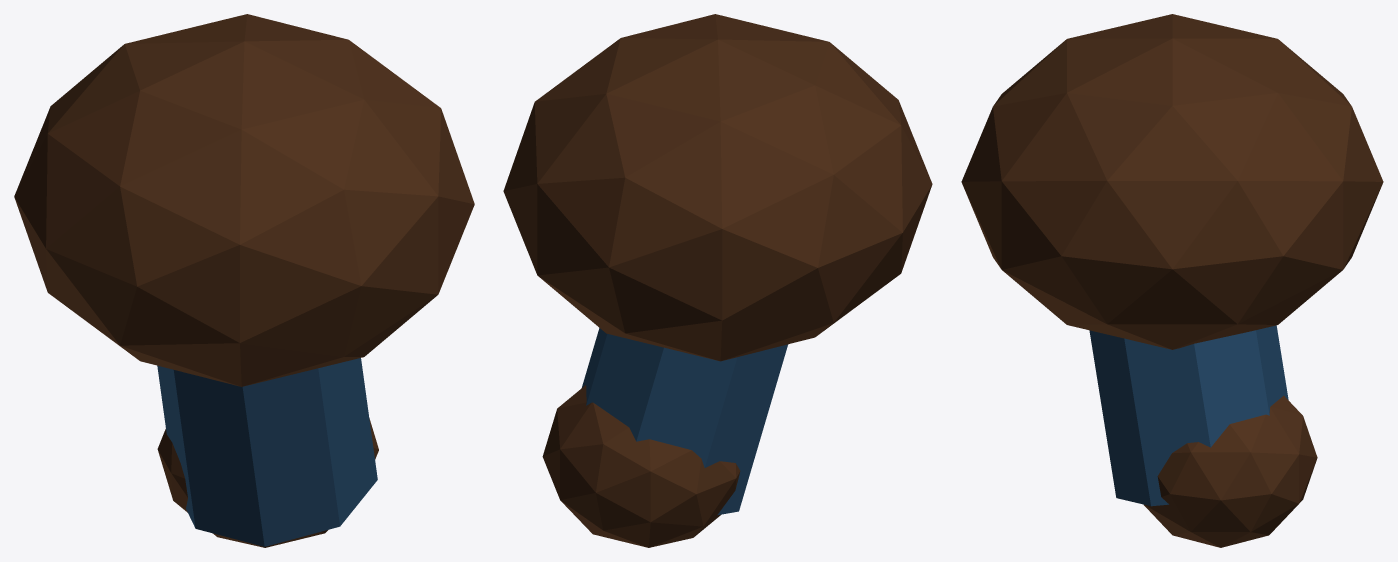
The model's file is ArmRight.glb.
3 renders of one model, left to right at view 1: azimuth 30°, elevation 25°; view 2: azimuth 150°, elevation 25°; view 3: azimuth 270°, elevation 25°, orthographic. The views are drawn at different scales.
Visible parts, largest first — view 1: Sculpture; view 2: Sculpture; view 3: Sculpture.
Part boxes in pixels (left/top/right/bottom): Sculpture: left=14, top=14, right=474, bottom=547; Sculpture: left=503, top=14, right=932, bottom=547; Sculpture: left=961, top=14, right=1383, bottom=547.
Bounding box in the file's own units: 0.47 × 0.598 × 0.48.
